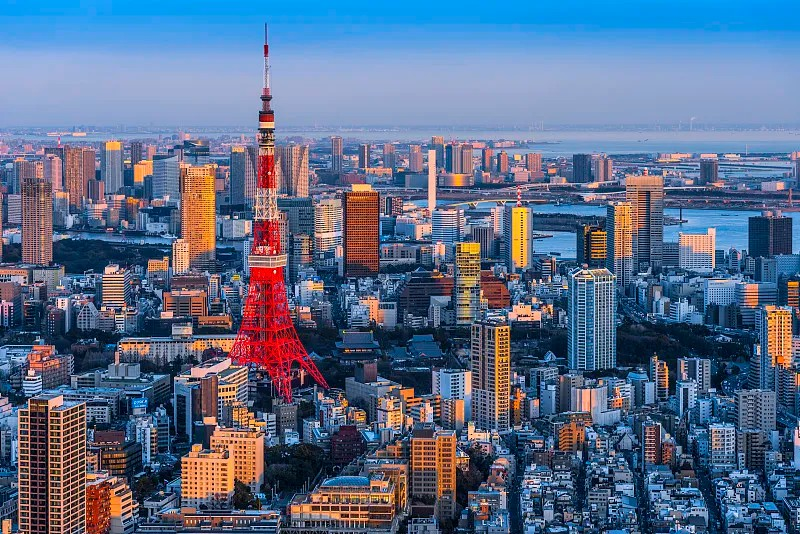Tokyo: (227, 21, 331, 394)
